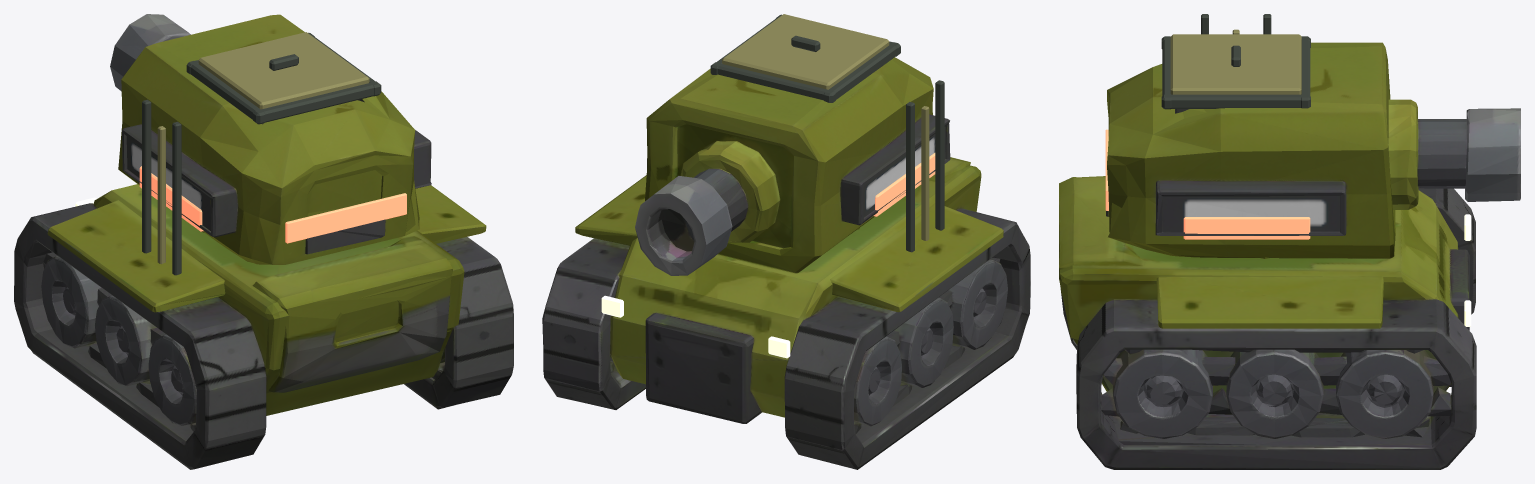
The model's file is tank.glb.
3 views of the same model, side by side, from view 1: azimuth 30°, elevation 25°; view 2: azimuth 150°, elevation 25°; view 3: azimuth 270°, elevation 25° (orthographic). The views are drawn at different scales.
Parts seen in each view (by area): view 1: Tank_hull, Tank_turret, Tank_track_left, Tank_track_right, tank_HatchLid, Tank_wheel_4, Tank_wheel_3, Tank_wheel_5, Tank_rear_owner_lens, Tank_barrel, tank_HatchRim.002, tank_EntryRail (+3 smaller); view 2: Tank_hull, Tank_turret, Tank_track_left, Tank_barrel, Tank_track_right, tank_HatchLid, Tank_wheel_5, Tank_wheel_3, Tank_wheel_4, tank_EntryRail, tank_HatchRim.003, tank_EntryRail.001 (+2 smaller); view 3: Tank_turret, Tank_hull, Tank_track_right, Tank_barrel, tank_HatchLid, Tank_wheel_1, Tank_wheel_2, Tank_wheel_0, Tank_owner_lens.001, Tank_track_left, tank_HatchRim.001, tank_HatchRim.003 (+1 smaller).
Part boxes in pixels (x1=…): Tank_hull: x1=43, y1=184, x2=486, y2=431; Tank_turret: x1=118, y1=14, x2=431, y2=264; Tank_track_left: x1=14, y1=203, x2=266, y2=469; Tank_track_right: x1=404, y1=237, x2=513, y2=409; tank_HatchLid: x1=198, y1=32, x2=369, y2=109; Tank_wheel_4: x1=41, y1=256, x2=101, y2=348; Tank_wheel_3: x1=95, y1=295, x2=156, y2=386; Tank_wheel_5: x1=148, y1=334, x2=196, y2=425; Tank_rear_owner_lens: x1=285, y1=193, x2=406, y2=243; Tank_barrel: x1=110, y1=14, x2=190, y2=91; tank_HatchRim.002: x1=253, y1=81, x2=381, y2=124; tank_EntryRail: x1=172, y1=121, x2=181, y2=275; Tank_hull: x1=575, y1=157, x2=1003, y2=434; Tank_turret: x1=645, y1=57, x2=950, y2=273; Tank_track_left: x1=784, y1=208, x2=1030, y2=469; Tank_barrel: x1=635, y1=141, x2=780, y2=275; Tank_track_right: x1=542, y1=238, x2=645, y2=409; tank_HatchLid: x1=722, y1=14, x2=889, y2=89; Tank_wheel_5: x1=948, y1=259, x2=1007, y2=349; Tank_wheel_3: x1=894, y1=297, x2=953, y2=387; Tank_wheel_4: x1=854, y1=336, x2=901, y2=426; tank_EntryRail: x1=935, y1=80, x2=944, y2=230; tank_HatchRim.003: x1=710, y1=62, x2=835, y2=102; tank_EntryRail.001: x1=906, y1=102, x2=914, y2=252; Tank_turret: x1=1106, y1=42, x2=1395, y2=258; Tank_hull: x1=1059, y1=176, x2=1469, y2=437; Tank_track_right: x1=1076, y1=299, x2=1476, y2=469; Tank_barrel: x1=1388, y1=99, x2=1520, y2=209; tank_HatchLid: x1=1170, y1=34, x2=1301, y2=94; Tank_wheel_1: x1=1113, y1=349, x2=1212, y2=438; Tank_wheel_2: x1=1226, y1=349, x2=1323, y2=438; Tank_wheel_0: x1=1336, y1=350, x2=1433, y2=438; Tank_owner_lens.001: x1=1183, y1=217, x2=1310, y2=239; Tank_track_left: x1=1418, y1=188, x2=1475, y2=314; tank_HatchRim.001: x1=1161, y1=94, x2=1310, y2=108; tank_HatchRim.003: x1=1301, y1=36, x2=1310, y2=108.
Size of the model in its own units: 3.7 by 3.56 by 4.3.
6 materials, 1 textured.
